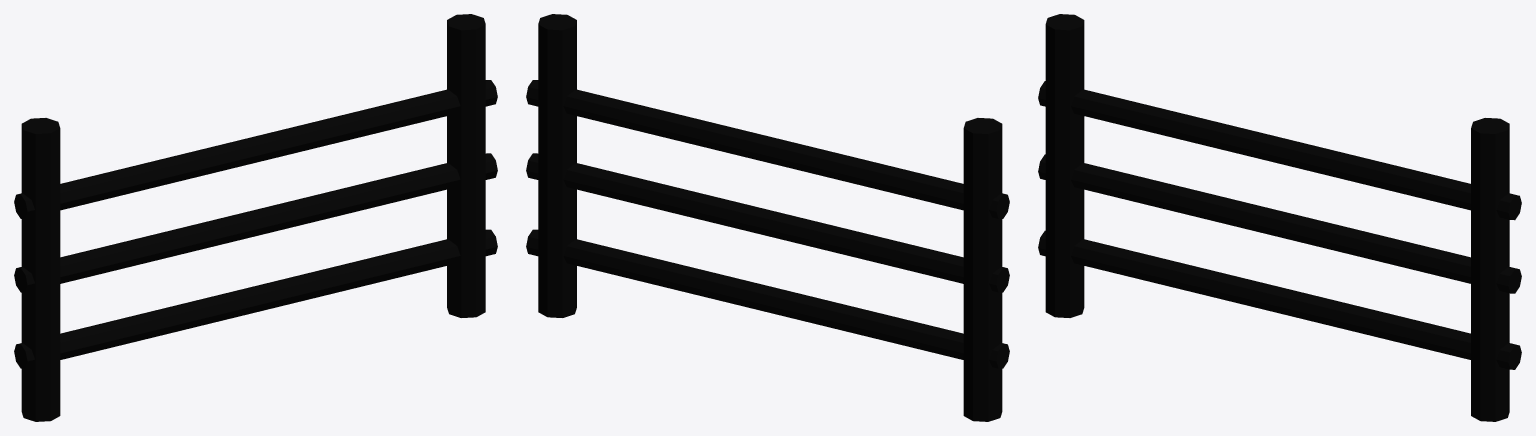
Rendered from Field fence 0.fbx.
3 renders of one model, left to right at view 1: azimuth 30°, elevation 25°; view 2: azimuth 150°, elevation 25°; view 3: azimuth 330°, elevation 25°, orthographic.
Parts seen in each view (by area): view 1: Cylinder.014; view 2: Cylinder.014; view 3: Cylinder.014.
Boxes of the visible parts, x1,y1,x2,y2 form: Cylinder.014: [14, 14, 497, 421]; Cylinder.014: [526, 14, 1009, 421]; Cylinder.014: [1038, 14, 1521, 421].
Bounding box in the file's own units: 231 × 135 × 17.08.
